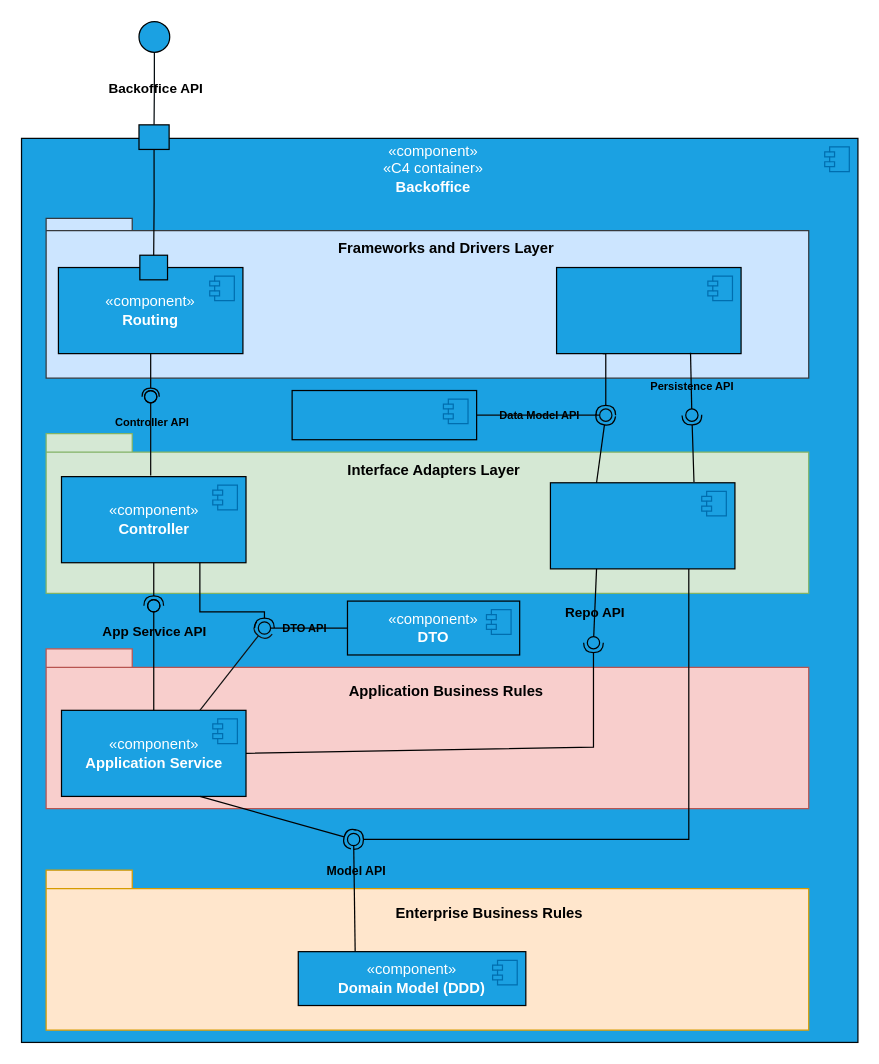
Image size: 879x1064. Some labels were removed from this diagram. The box of each missing label's shape, as (x1, y1, x2, y2) in pixels:
«component» Data Model: (291, 389, 477, 440)
«component» Persistence: (555, 266, 741, 354)
«component» Repository: (549, 482, 735, 569)
